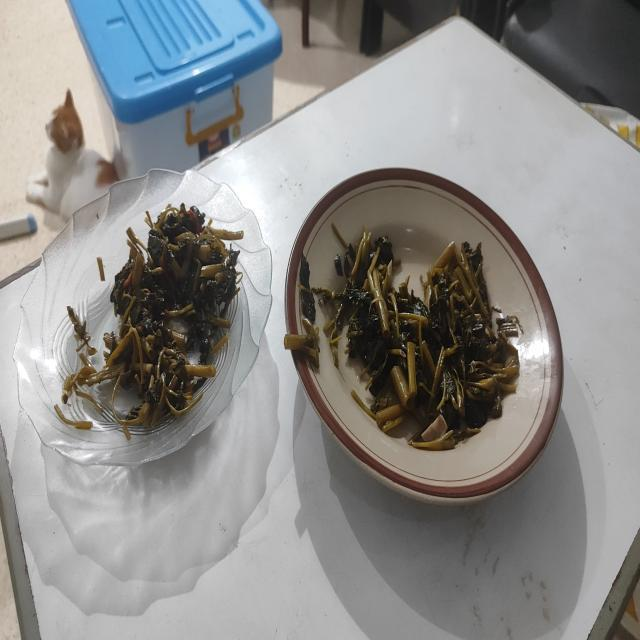tumis_kangkung: (312, 223, 520, 450), (104, 204, 244, 426)
